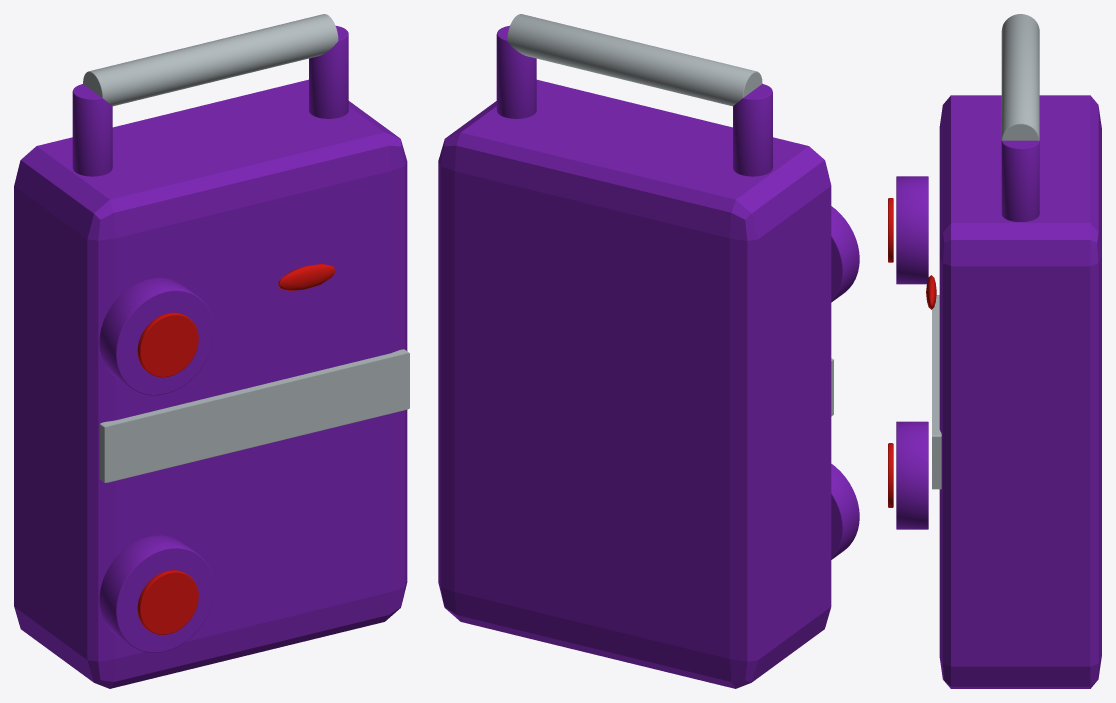
3 renders of one model, left to right at view 1: azimuth 30°, elevation 25°; view 2: azimuth 150°, elevation 25°; view 3: azimuth 270°, elevation 25°, orthographic. The views are drawn at different scales.
Visible parts, largest first — view 1: TI075 / rounded purple transport shell, TI075 / pale central band, TI075 / metal carrying grip, TI075 / large sealed interface.001, TI075 / large sealed interface, TI075 / portable case handle post, TI075 / interface centre.001, TI075 / interface centre, TI075 / portable case handle post.001, TI075 / front identification mark; view 2: TI075 / rounded purple transport shell, TI075 / metal carrying grip, TI075 / portable case handle post, TI075 / portable case handle post.001, TI075 / large sealed interface.001, TI075 / large sealed interface; view 3: TI075 / rounded purple transport shell, TI075 / metal carrying grip, TI075 / large sealed interface, TI075 / large sealed interface.001, TI075 / portable case handle post.001, TI075 / pale central band, TI075 / interface centre, TI075 / interface centre.001.
Part boxes in pixels (box(x1,y1,x2,y2)): TI075 / rounded purple transport shell: box(14, 79, 407, 688); TI075 / pale central band: box(99, 349, 409, 482); TI075 / metal carrying grip: box(83, 14, 338, 106); TI075 / large sealed interface.001: box(99, 278, 214, 395); TI075 / large sealed interface: box(99, 535, 214, 652); TI075 / portable case handle post: box(72, 84, 112, 176); TI075 / interface centre.001: box(137, 312, 198, 377); TI075 / interface centre: box(137, 570, 198, 634); TI075 / portable case handle post.001: box(309, 26, 348, 118); TI075 / front identification mark: box(278, 264, 335, 290); TI075 / rounded purple transport shell: box(438, 79, 831, 688); TI075 / metal carrying grip: box(507, 14, 762, 106); TI075 / portable case handle post: box(733, 84, 772, 176); TI075 / portable case handle post.001: box(496, 25, 536, 118); TI075 / large sealed interface.001: box(831, 206, 859, 302); TI075 / large sealed interface: box(831, 464, 859, 559); TI075 / rounded purple transport shell: box(939, 95, 1101, 688); TI075 / metal carrying grip: box(1001, 14, 1039, 140); TI075 / large sealed interface: box(896, 421, 928, 529); TI075 / large sealed interface.001: box(896, 176, 928, 284); TI075 / portable case handle post.001: box(1001, 140, 1039, 221); TI075 / pale central band: box(932, 295, 941, 489); TI075 / interface centre: box(888, 443, 893, 507); TI075 / interface centre.001: box(888, 198, 893, 262).
Size of the model in its own units: 1.3 by 2.27 by 0.79.
